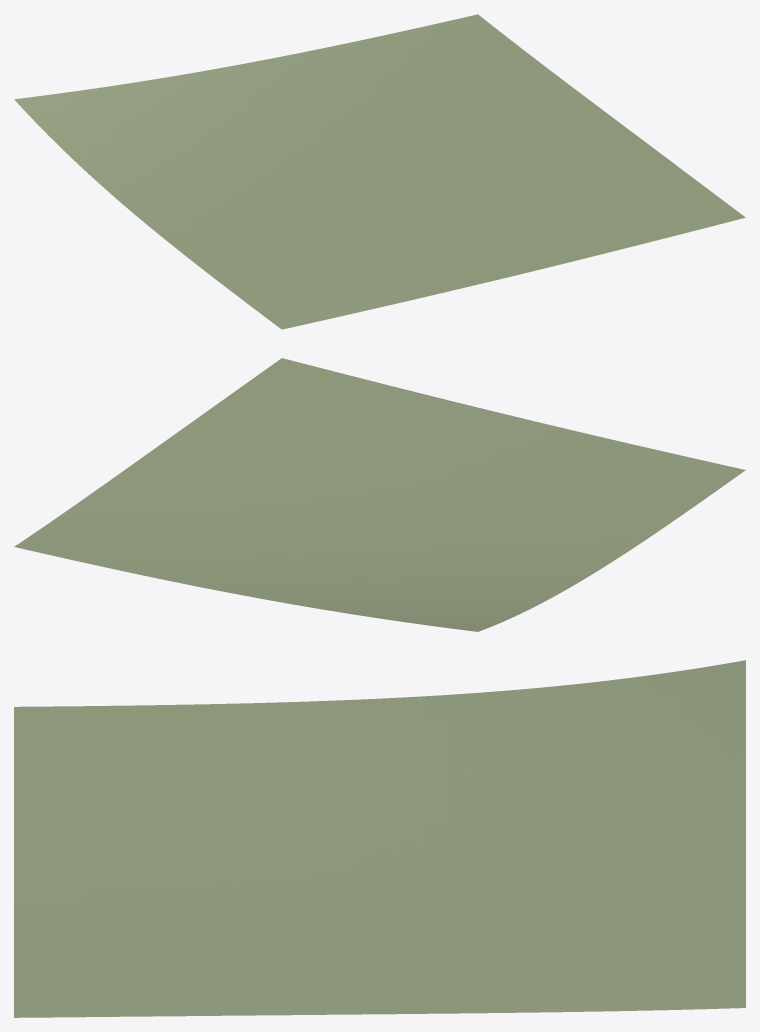
File: expanse-28-30.glb
The picture shows the model from 3 angles, top to bottom: view 1: azimuth 30°, elevation 25°; view 2: azimuth 150°, elevation 25°; view 3: azimuth 270°, elevation 25°; orthographic projection. The views are drawn at different scales.
Parts seen in each view (by area): view 1: expanse-28-30; view 2: expanse-28-30; view 3: expanse-28-30.
Boxes of the visible parts, x1,y1,x2,y2 form: expanse-28-30: (14,14,745,329); expanse-28-30: (14,358,745,631); expanse-28-30: (14,660,745,1017).
Size of the model in its own units: 256 by 19.57 by 256.
